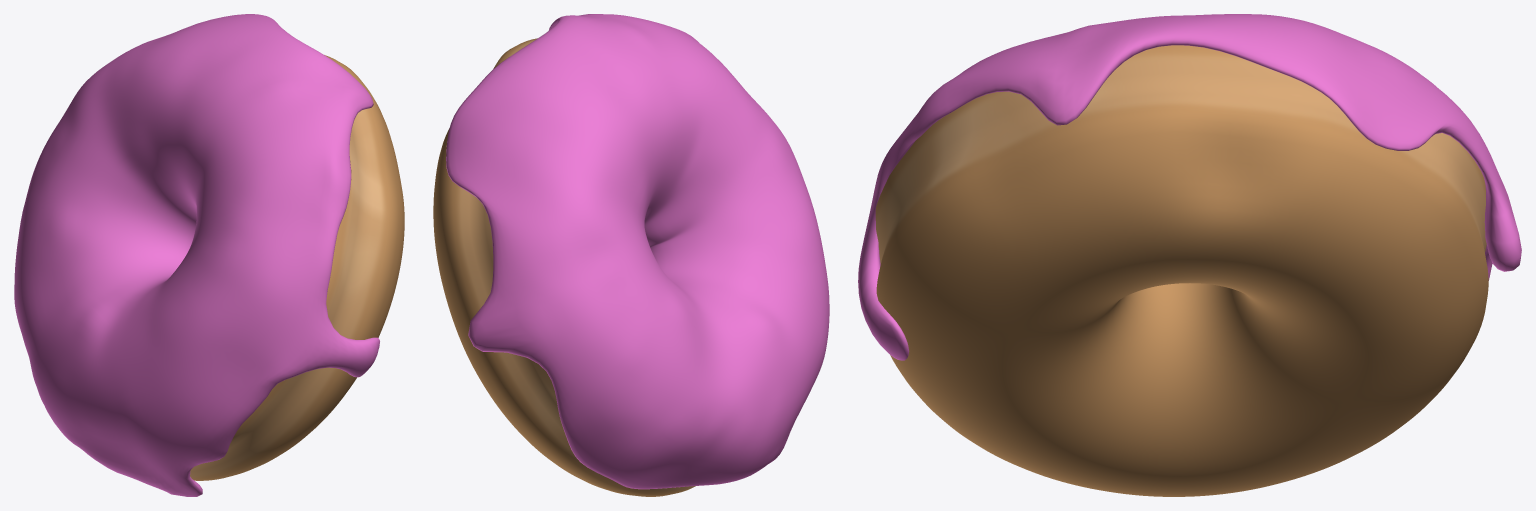
The picture shows the model from 3 angles, left to right: view 1: azimuth 30°, elevation 25°; view 2: azimuth 150°, elevation 25°; view 3: azimuth 270°, elevation 25°; orthographic projection. The views are drawn at different scales.
Visible parts, largest first — view 1: Icing, Donut; view 2: Icing, Donut; view 3: Donut, Icing.
Part boxes in pixels (x1,y1,x2,y2): Icing: [14, 14, 379, 496]; Donut: [190, 55, 404, 480]; Icing: [446, 14, 829, 489]; Donut: [433, 38, 695, 496]; Donut: [875, 45, 1488, 496]; Icing: [858, 14, 1521, 360].
Bounding box in the file's own units: 2.5 × 3.24 × 3.63.
Materials: 2 (1 with a texture image).
